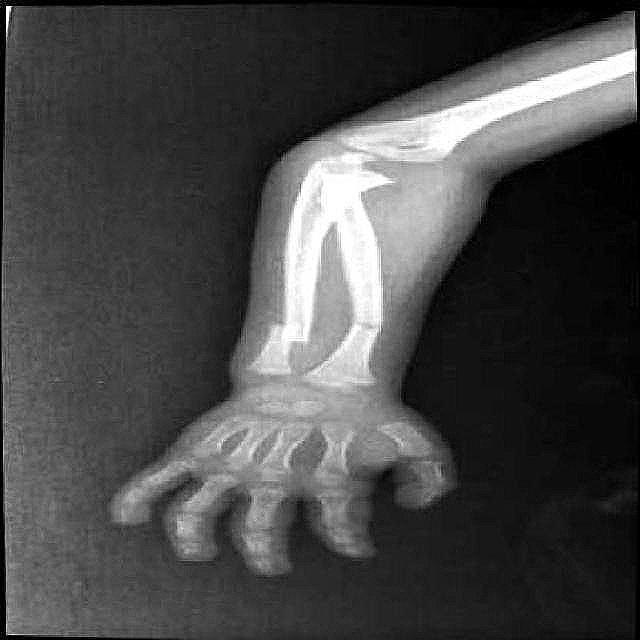bone: (260, 319, 312, 347), (344, 317, 384, 332)
